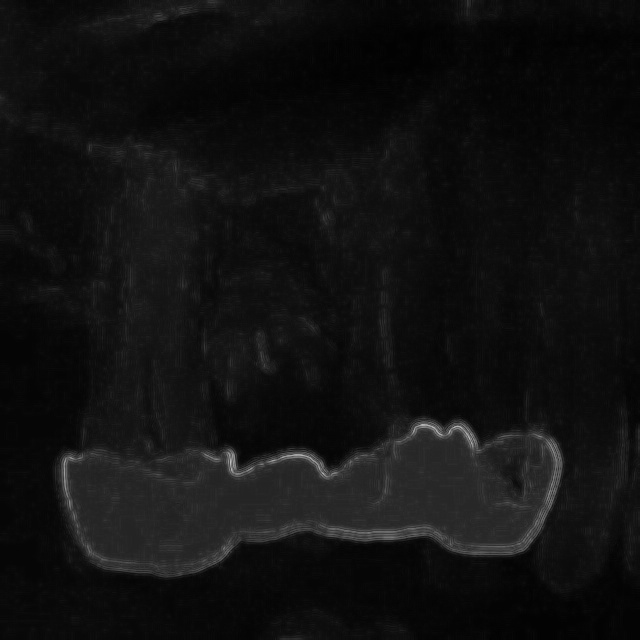Class 2- incomplete endodontic treatment: (443, 210, 578, 576), (201, 221, 339, 572), (337, 231, 459, 555)
cavity: (57, 155, 227, 596)
